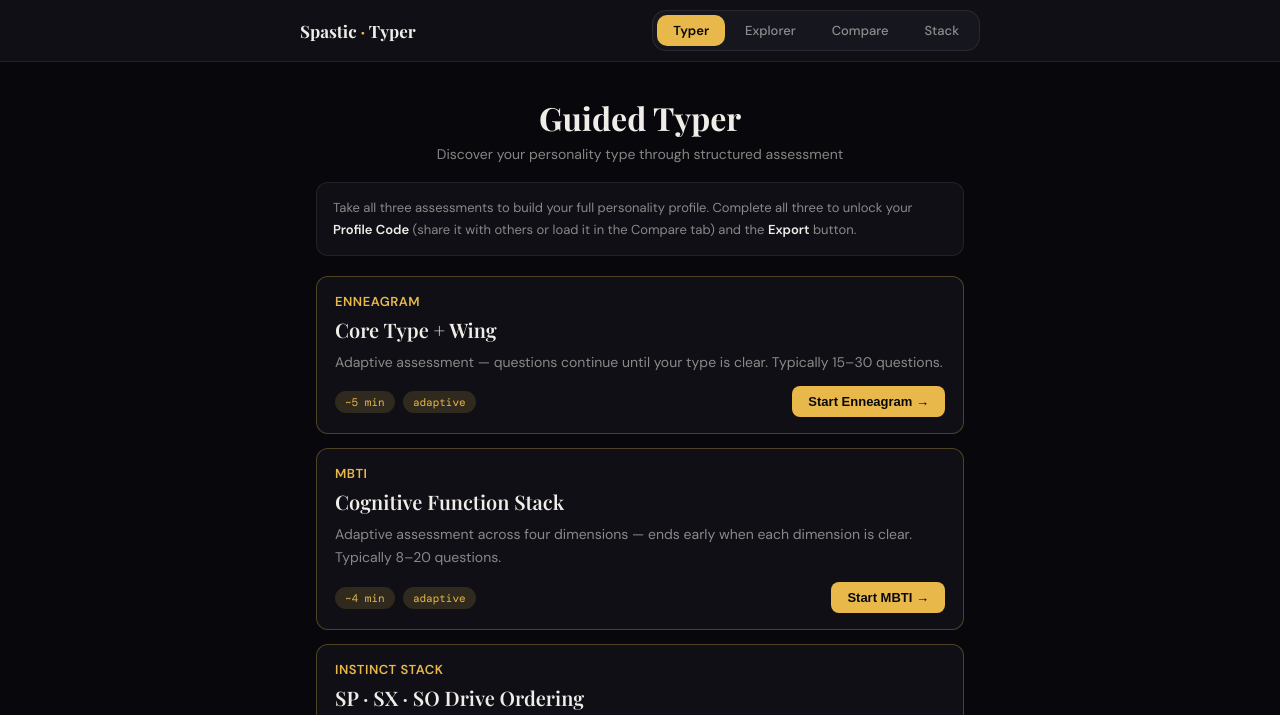
Navigation — scroll reset › scrolls to the top when a detail page opens inside Explorer
Click the button "Explorer" at (770, 30), box [729,15,812,46]
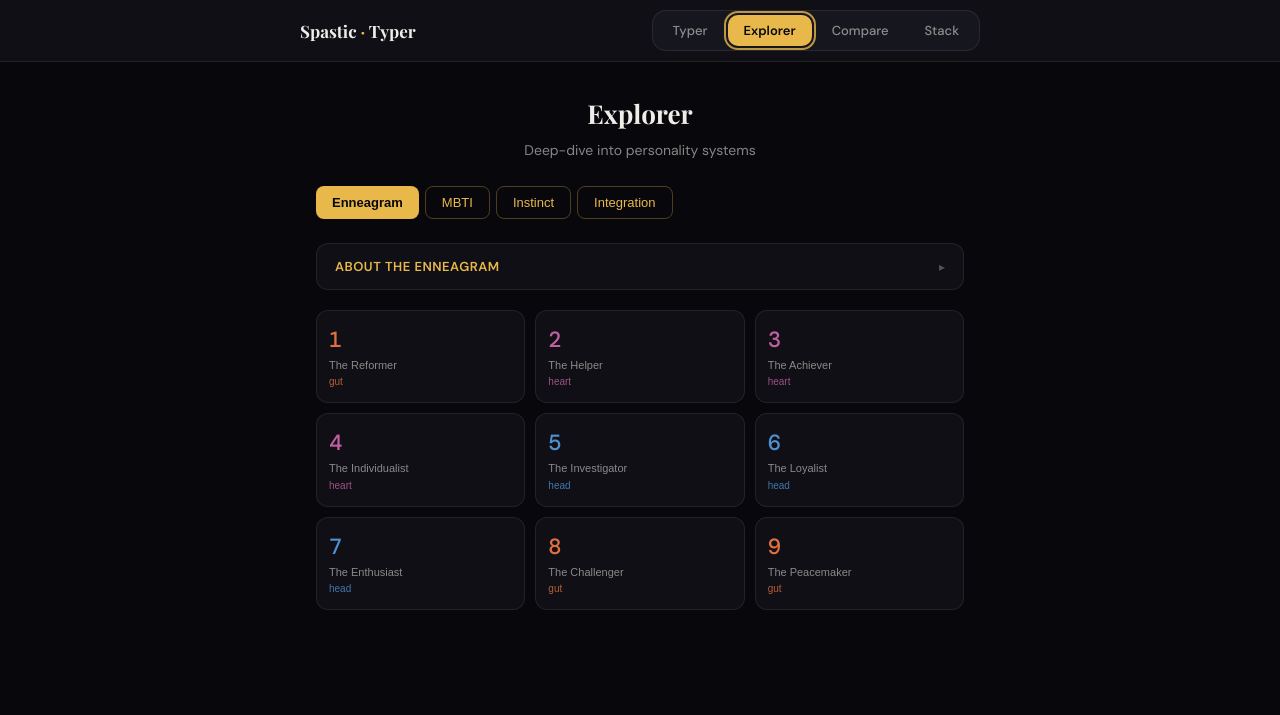
Click the button "4 The Individualist heart" at (421, 460), box [316,414,525,507]
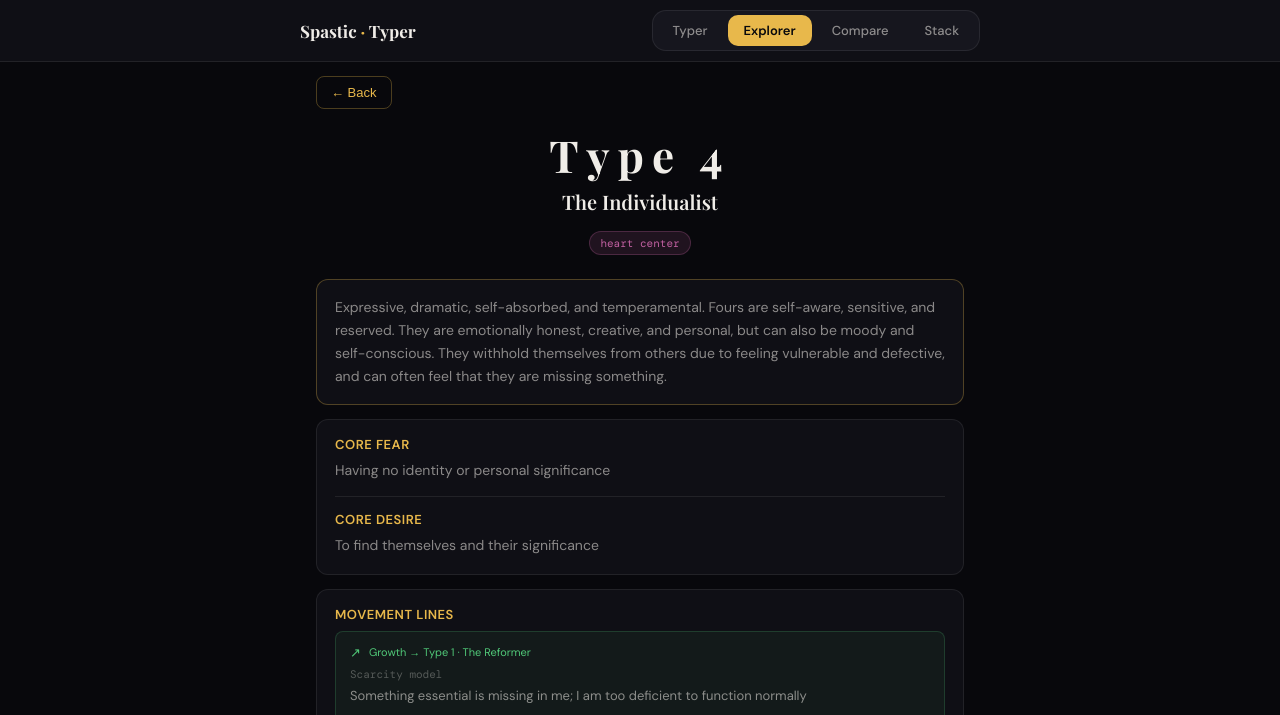
Result: the heading "Type 4" is shown at [549,125,731,184]
